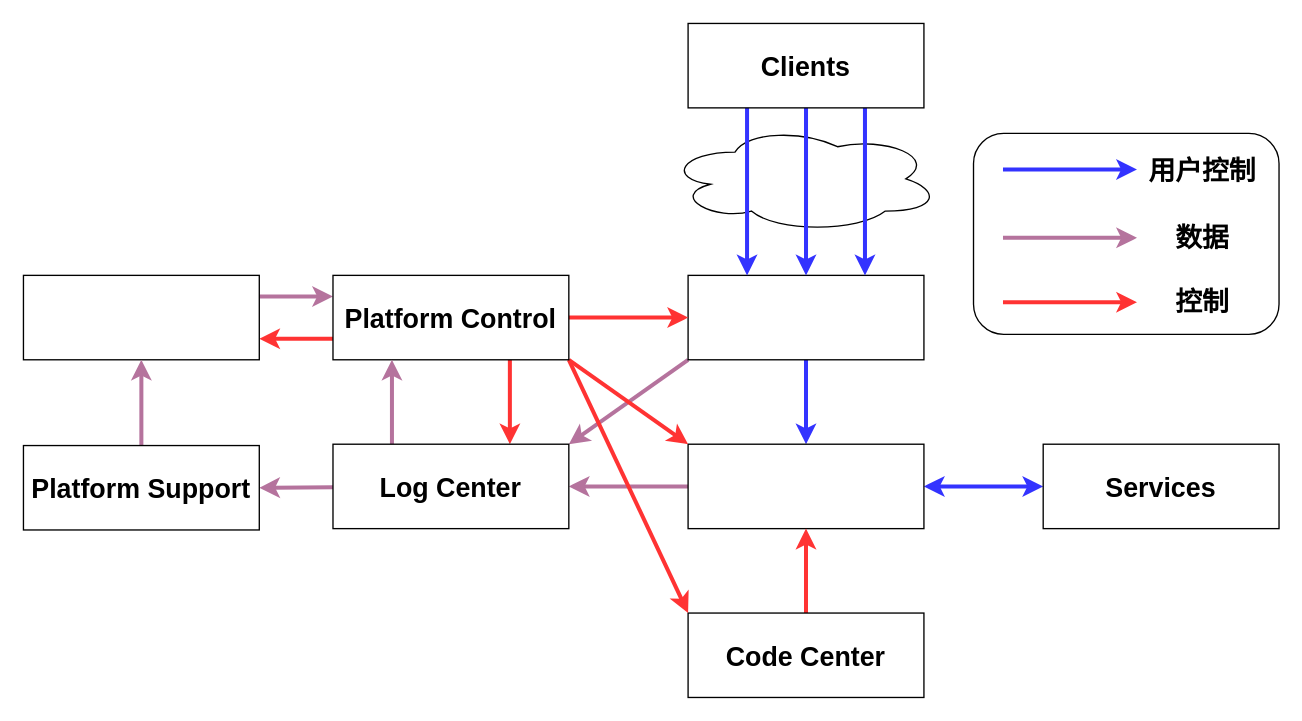
Some shapes in this 1302 by 721 pixel diagram are drawn without their labels. Here are the shapes that lost their labels. From the top down, the box of each, then its label:
(22, 274, 259, 360): Manage System
(687, 274, 924, 360): App Router
(687, 443, 924, 529): App Runtime
